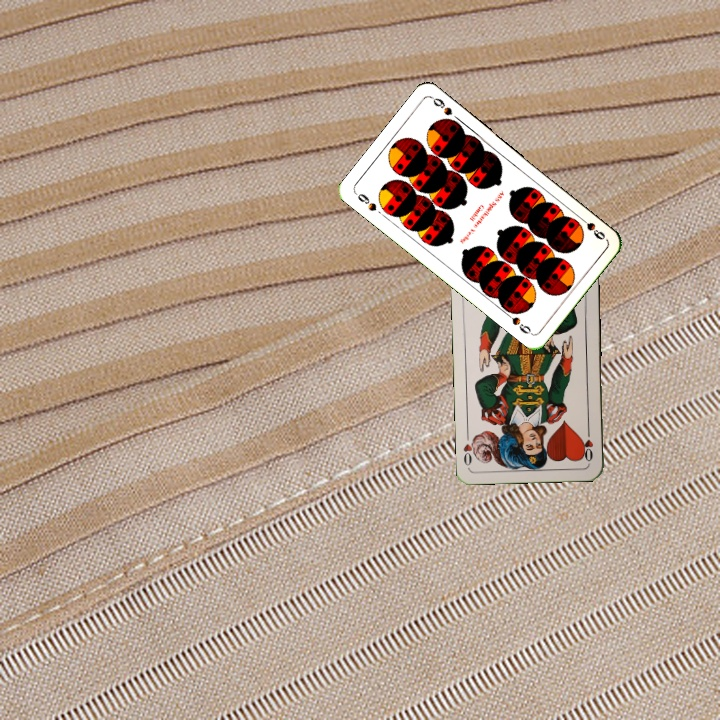HO: (579, 424, 596, 464)
S9: (574, 212, 608, 243), (351, 189, 379, 214)
